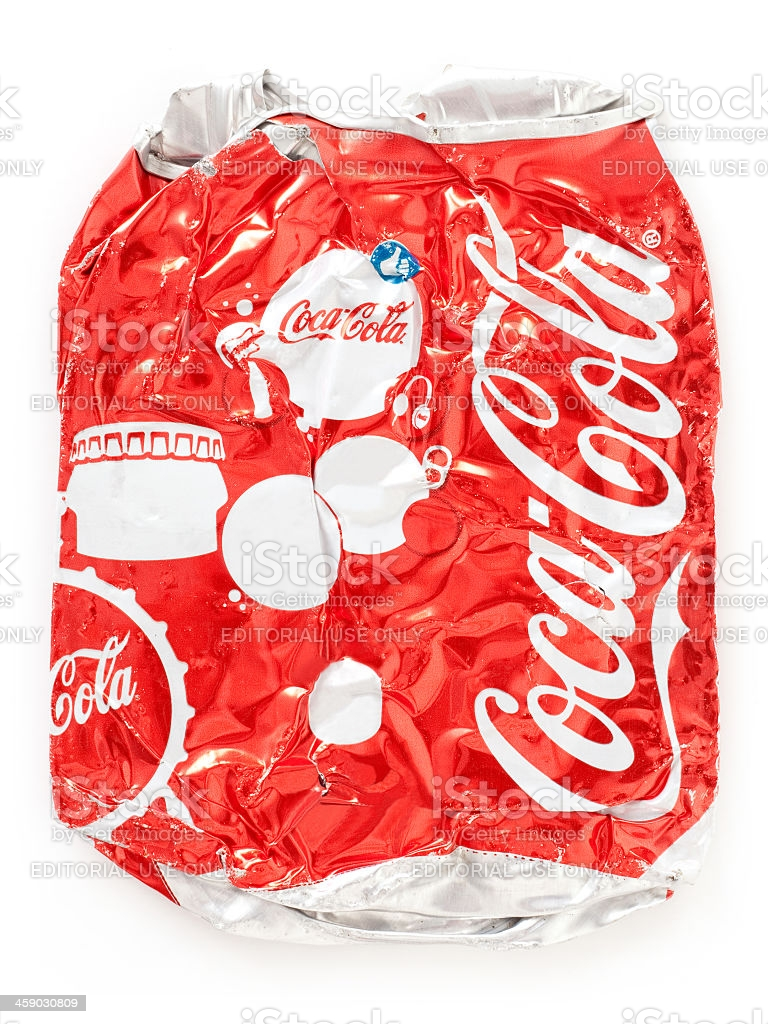can: (48, 68, 728, 952)
